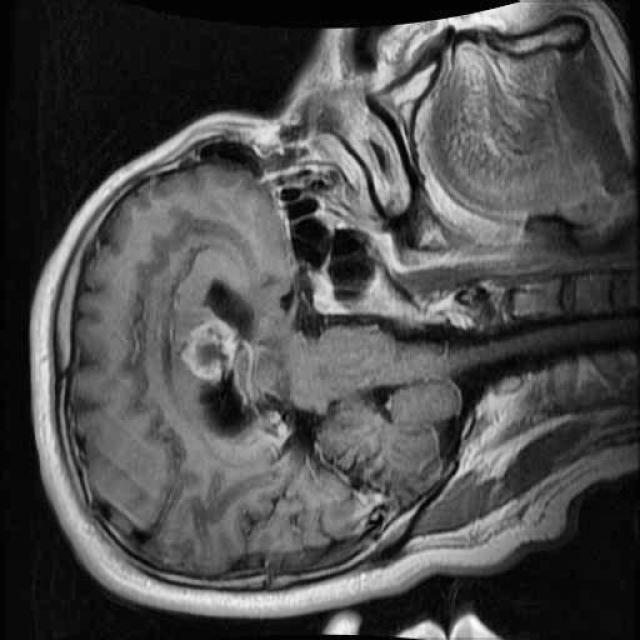Tumor: (165, 302, 256, 398)
